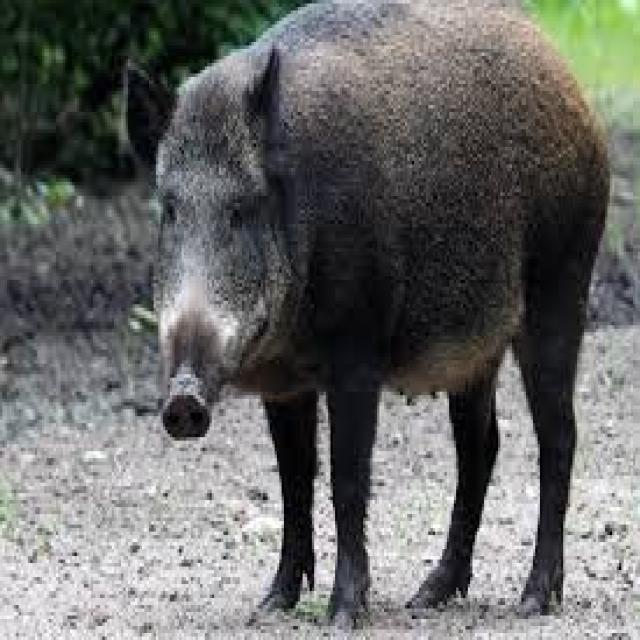Boar: (142, 6, 610, 612)
